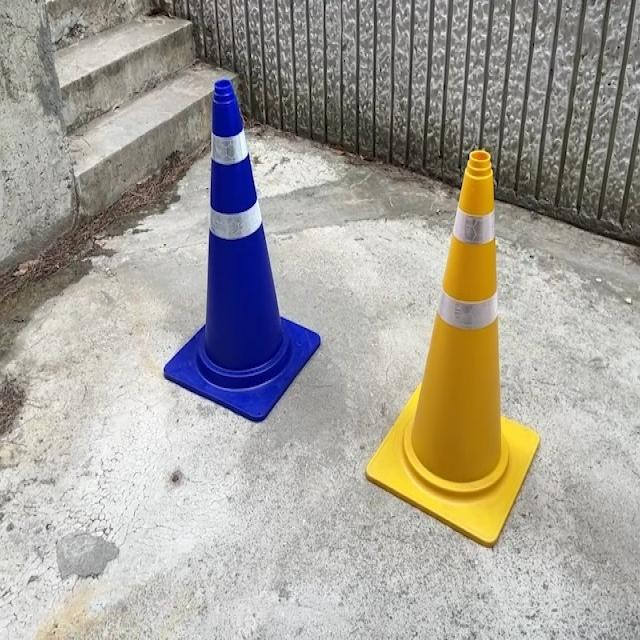b_rub: (164, 77, 321, 421)
y_rub: (367, 149, 541, 546)
